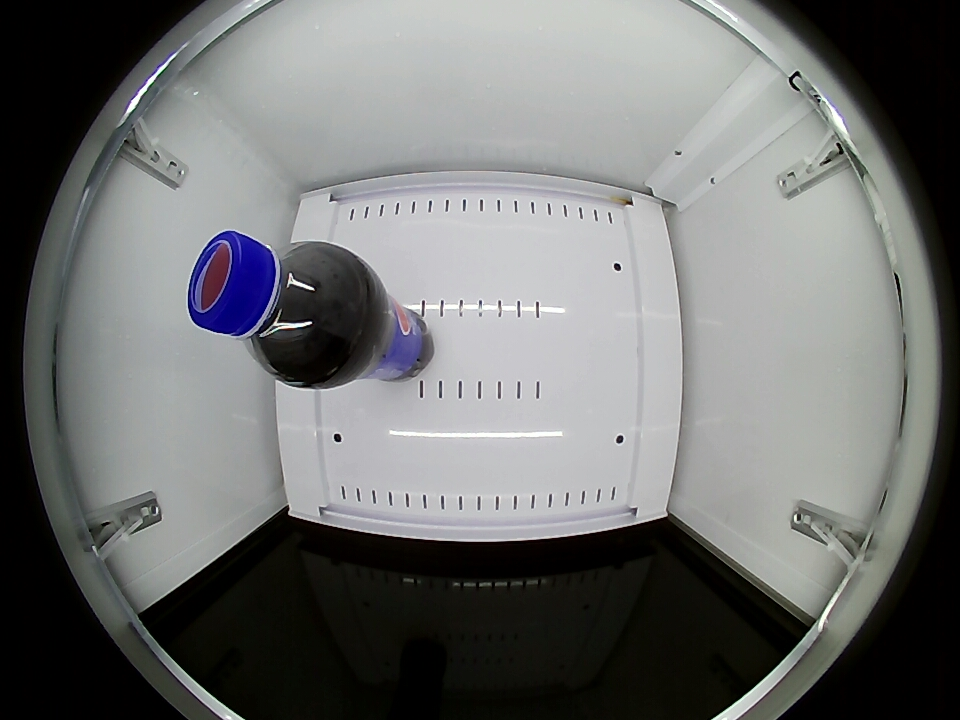baishikele-2: (188, 231, 354, 378)
